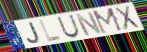J: (26, 21, 42, 45)
L: (38, 19, 63, 43)
M: (91, 6, 125, 35)
N: (74, 11, 104, 37)
U: (56, 14, 81, 39)
X: (113, 4, 141, 31)
